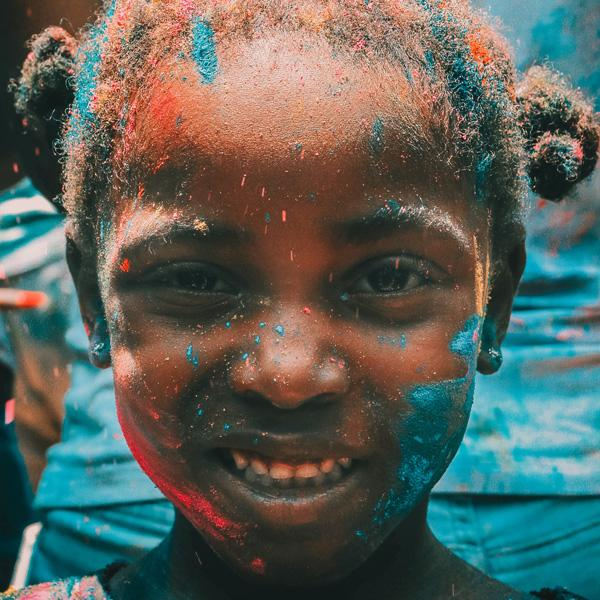Eyes: (336, 247, 452, 316), (134, 251, 246, 320)
